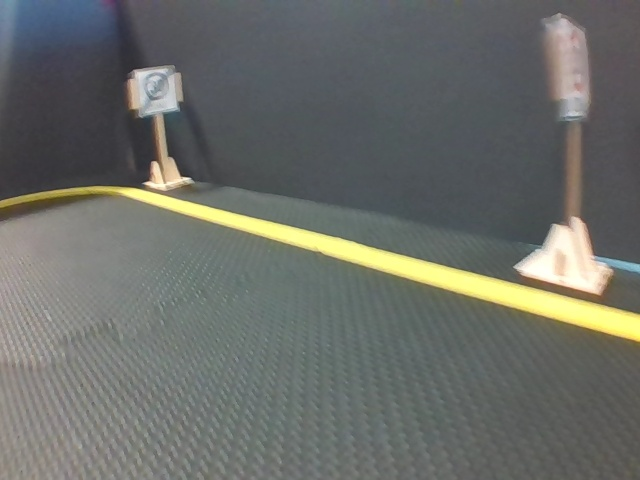30: (556, 17, 589, 116)
no30: (136, 70, 177, 113)
